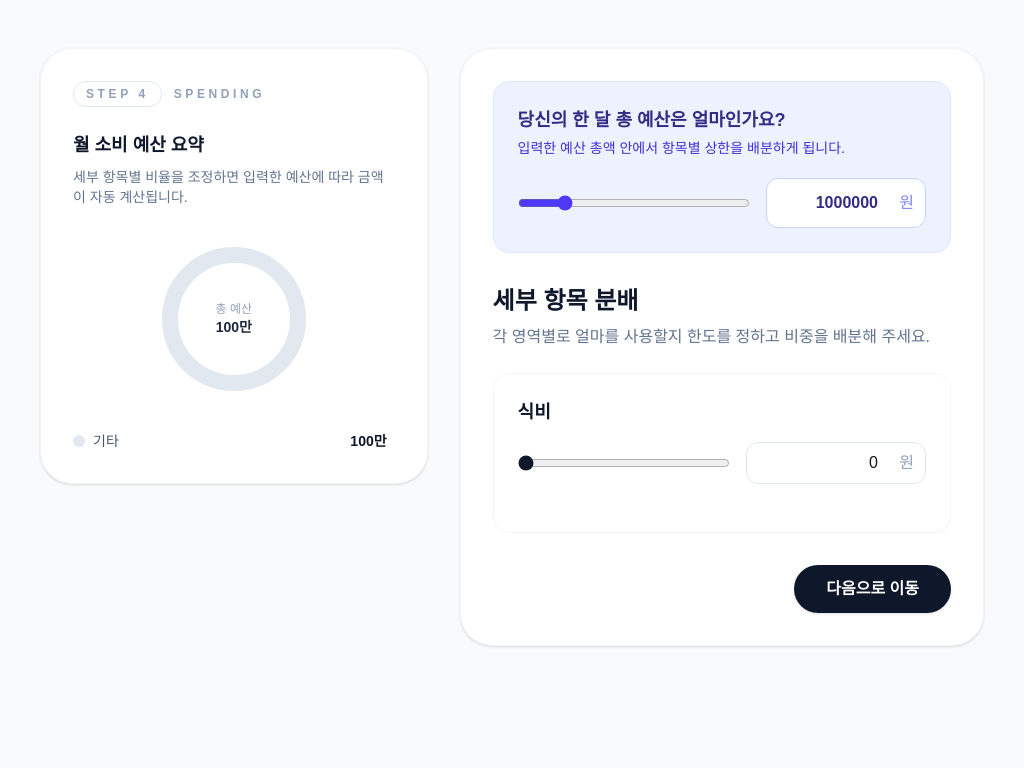
Test: Spending input flow › 숫자 입력 변경 시 슬라이더가 동기화된다
Step 1. Replace the text in the number field named "식비 금액" with "120000" → (836, 463), box [746, 442, 926, 484]
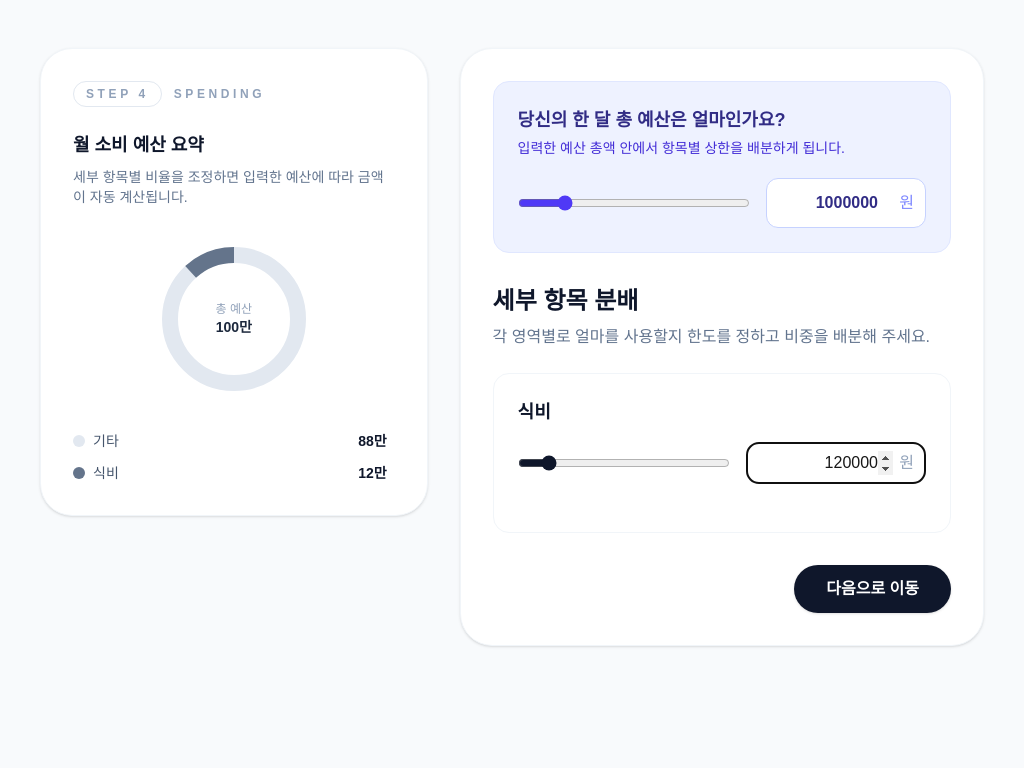
Check: the slider named "식비 슬라이더" holds "120000", box [518, 442, 730, 484]
